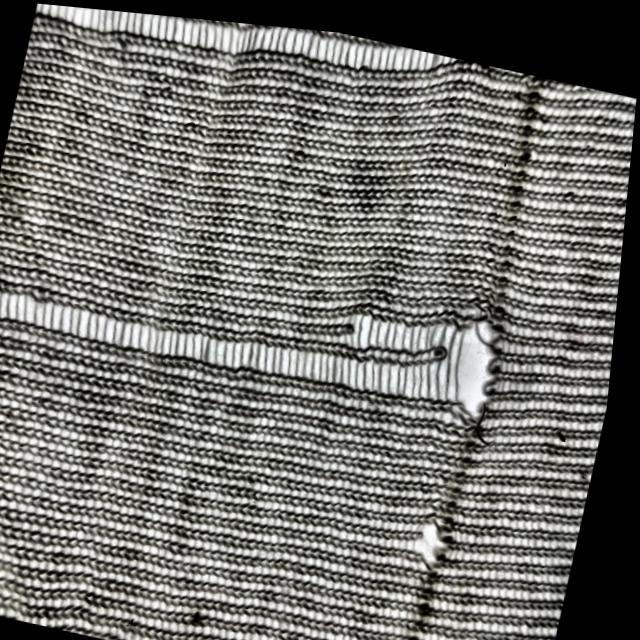Hole: (412, 502, 468, 557)
Stitch: (0, 197, 528, 442), (27, 3, 640, 143), (21, 583, 558, 640)
